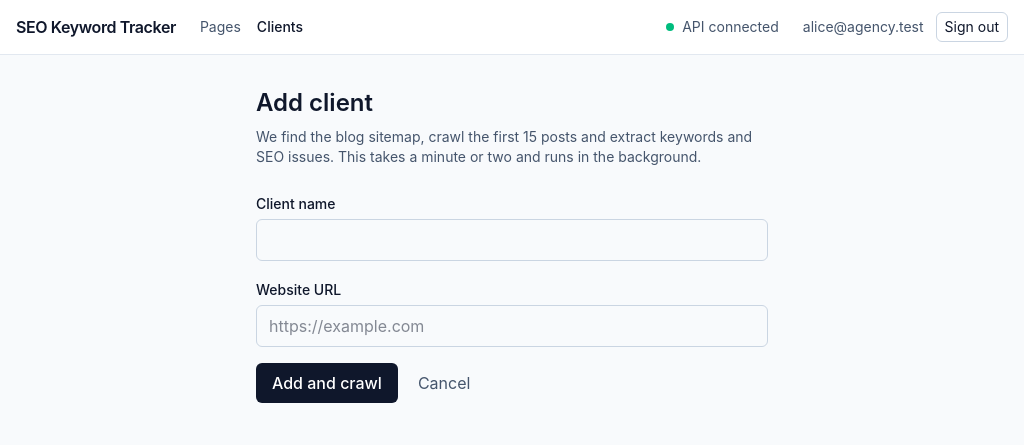
Test: add client › catches a URL without a scheme before sending it
The image size is (1024, 445).
Type "Acme" into the field labelled "Client name". click: (512, 240)
box: left=256, top=219, right=768, bottom=261
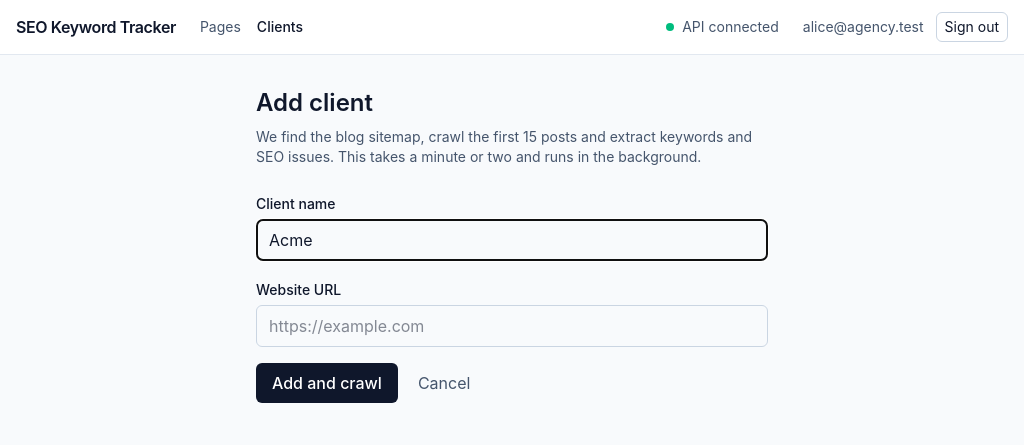
Type "acme.example" into the field labelled "Website URL". click: (512, 326)
box: left=256, top=305, right=768, bottom=347
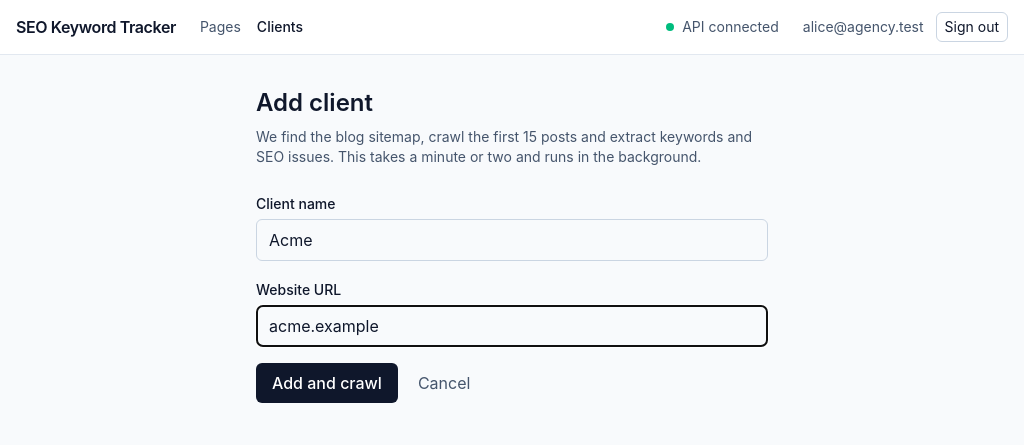
Click the button "Add and crawl". click: (327, 383)
box: left=256, top=363, right=398, bottom=403
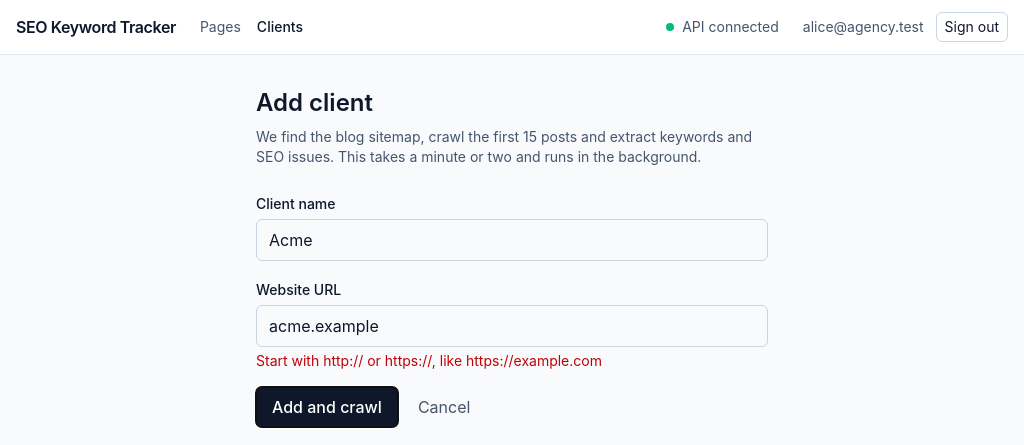
Expected: the text "Start with http:// or https://, like https://example.com" is shown, left=256, top=352, right=602, bottom=369
